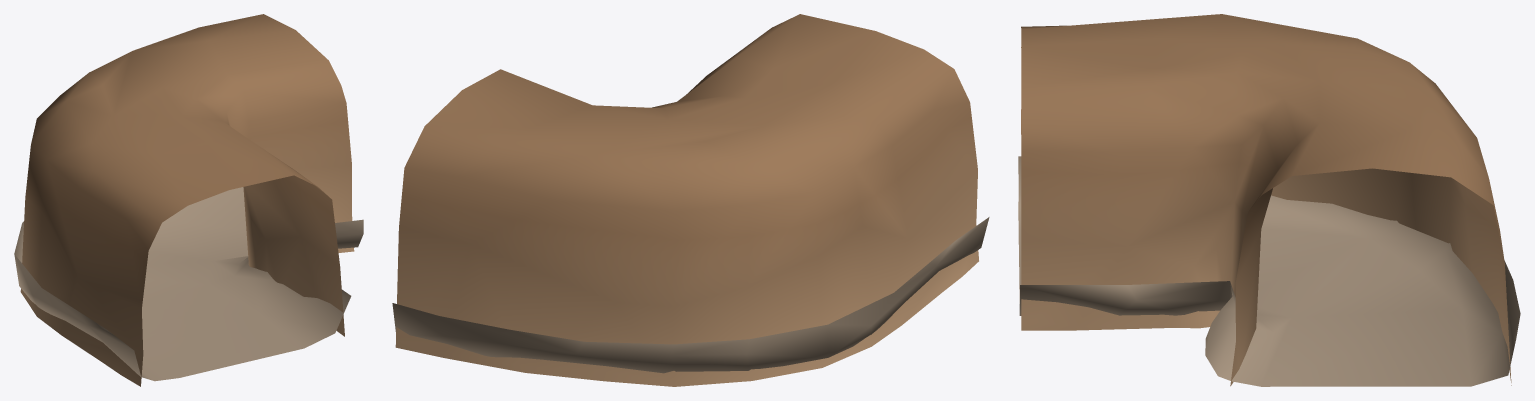
Rendered from Mines Tunel Curve.glb.
3 views of the same model, side by side, from view 1: azimuth 30°, elevation 25°; view 2: azimuth 150°, elevation 25°; view 3: azimuth 270°, elevation 25° (orthographic). The views are drawn at different scales.
Parts seen in each view (by area): view 1: Mines Tunel Curve, Mines Tunel Ground Curve; view 2: Mines Tunel Curve, Mines Tunel Ground Curve; view 3: Mines Tunel Curve, Mines Tunel Ground Curve.
Part boxes in pixels (<box>): Mines Tunel Curve: <box>20,14,354,386</box>; Mines Tunel Ground Curve: <box>14,187,363,381</box>; Mines Tunel Curve: <box>395,14,978,386</box>; Mines Tunel Ground Curve: <box>392,217,989,373</box>; Mines Tunel Curve: <box>1021,14,1511,386</box>; Mines Tunel Ground Curve: <box>1018,156,1520,386</box>.
Size of what is drawn, in the model's own units: 6.29 by 3.48 by 7.16.
1 material, 1 textured.
